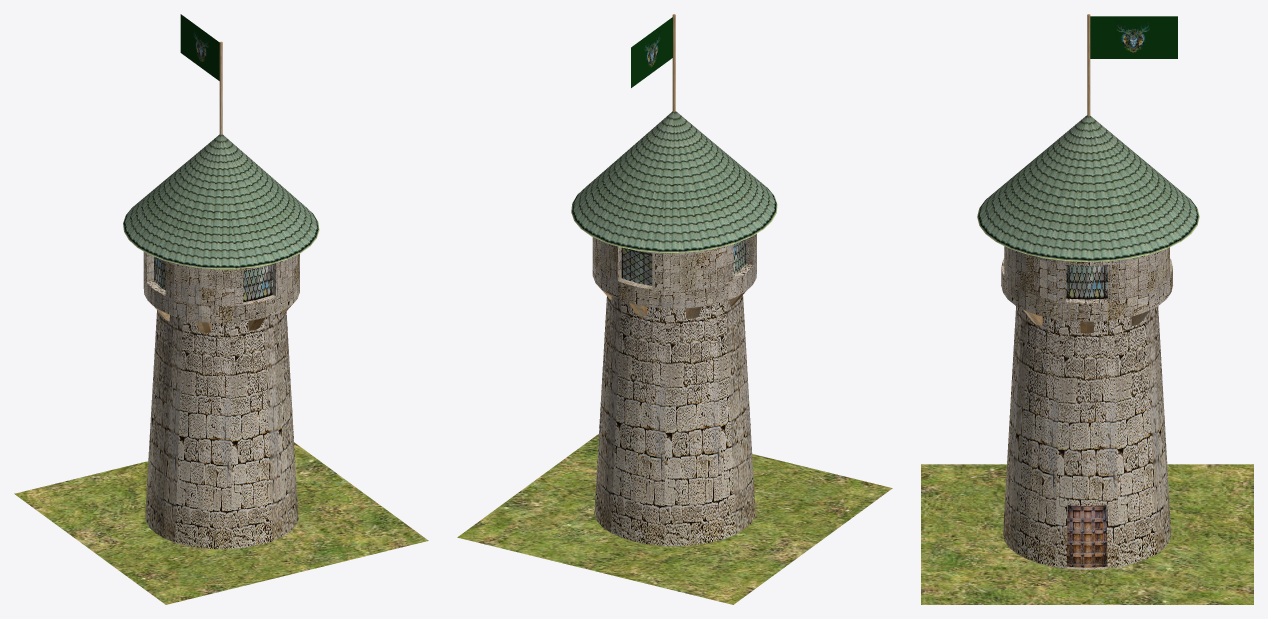
File: Elf-Watchtower.fbx
The picture shows the model from 3 angles, left to right: view 1: azimuth 30°, elevation 25°; view 2: azimuth 150°, elevation 25°; view 3: azimuth 270°, elevation 25°; orthographic projection. The views are drawn at different scales.
Visible parts, largest first — view 1: Torre, Suelo, Torre_Tejado, Bandera, Torre_Ventana2; view 2: Torre, Suelo, Torre_Tejado, Bandera, Torre_Ventana4; view 3: Torre, Suelo, Torre_Tejado, Bandera, Torre_Puerta, Torre_Ventana1, Torre_Maderas.
Part boxes in pixels (box(x1,y1,x2,y2)): Torre: box(143, 252, 299, 549); Suelo: box(14, 442, 428, 604); Torre_Tejado: box(123, 134, 319, 269); Bandera: box(180, 14, 219, 80); Torre_Ventana2: box(243, 264, 272, 302); Torre: box(592, 234, 756, 546); Suelo: box(457, 434, 892, 604); Torre_Tejado: box(571, 111, 777, 252); Bandera: box(631, 17, 672, 87); Torre_Ventana4: box(621, 247, 652, 285); Torre: box(1001, 246, 1172, 569); Suelo: box(921, 464, 1253, 604); Torre_Tejado: box(977, 115, 1199, 261); Bandera: box(1090, 16, 1177, 58); Torre_Puerta: box(1066, 505, 1107, 567); Torre_Ventana1: box(1066, 265, 1107, 299); Torre_Maderas: box(1001, 285, 1150, 333).
Bounding box in the file's own units: 750 × 1293 × 750.
